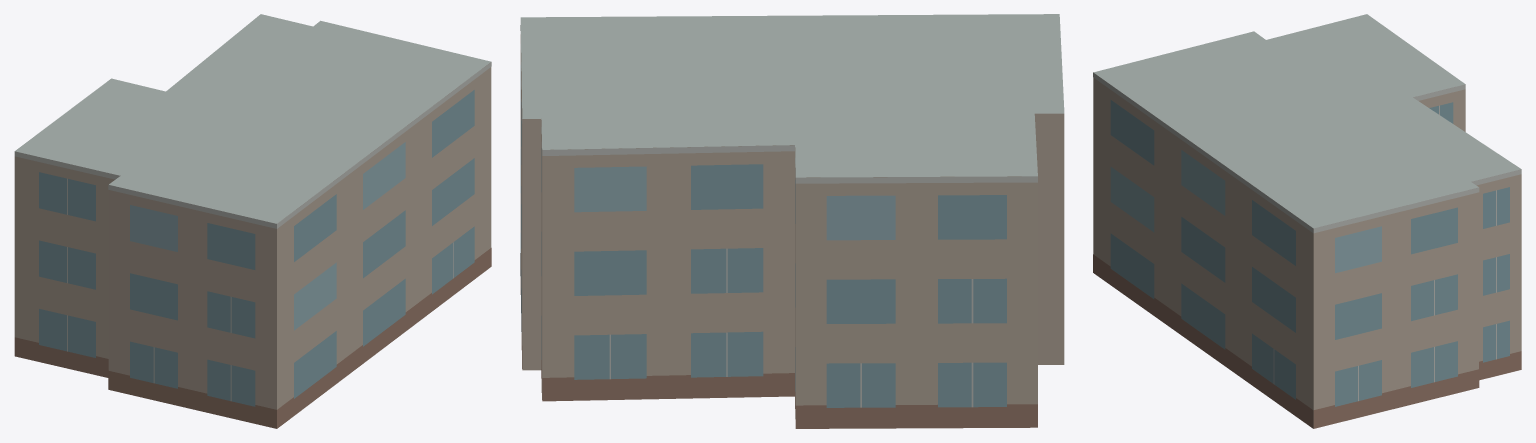
Rendered from survey-upis-32932527.glb.
3 renders of one model, left to right at view 1: azimuth 30°, elevation 25°; view 2: azimuth 150°, elevation 25°; view 3: azimuth 270°, elevation 25°, orthographic. The views are drawn at different scales.
Visible parts, largest first — view 1: survey-upis-32932527.tmp; view 2: survey-upis-32932527.tmp; view 3: survey-upis-32932527.tmp.
Boxes of the visible parts, x1,y1,x2,y2 form: survey-upis-32932527.tmp: [14, 14, 491, 428]; survey-upis-32932527.tmp: [520, 14, 1064, 428]; survey-upis-32932527.tmp: [1093, 14, 1521, 428].
Bounding box in the file's own units: 22.72 × 9.9 × 19.19.
